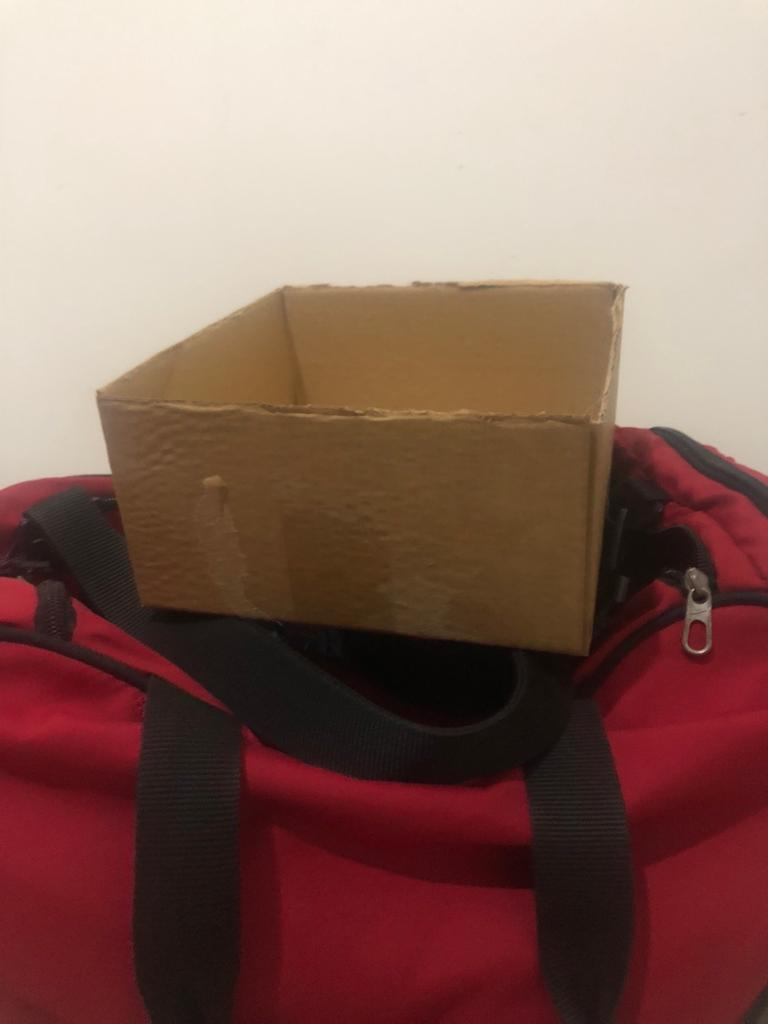CBox: (96, 274, 660, 675)
